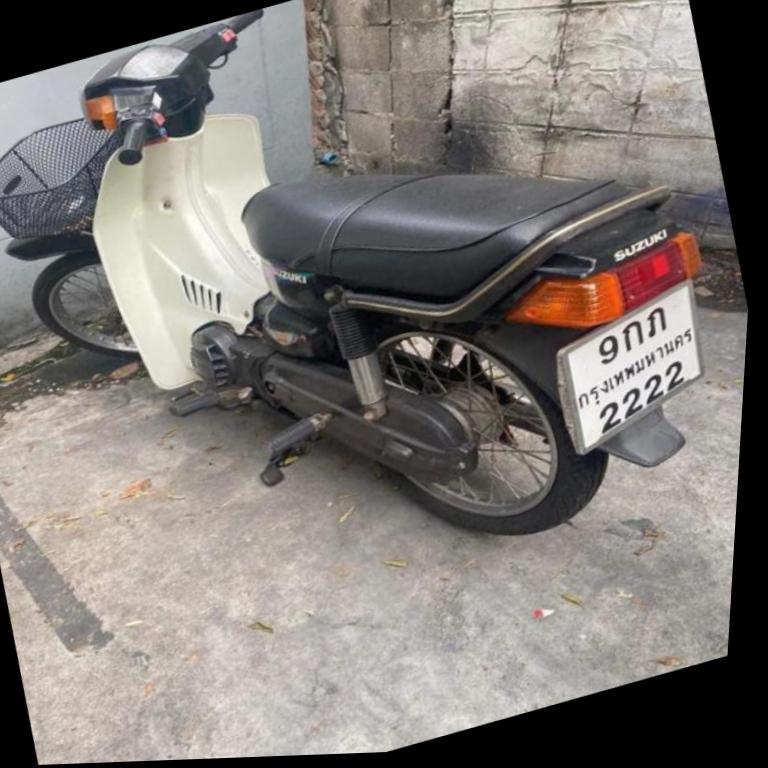license plate: (558, 283, 701, 451)
